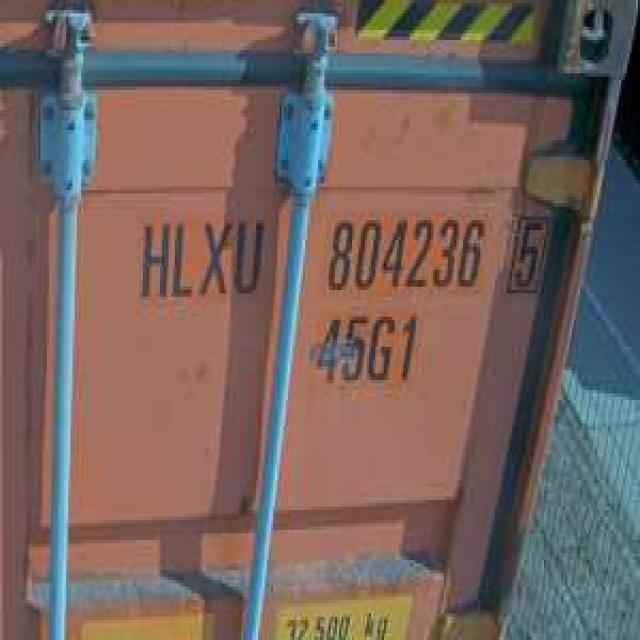dv: (506, 208, 546, 296)
owner: (136, 214, 267, 308)
serial: (328, 210, 484, 294)
size: (314, 306, 420, 392)
